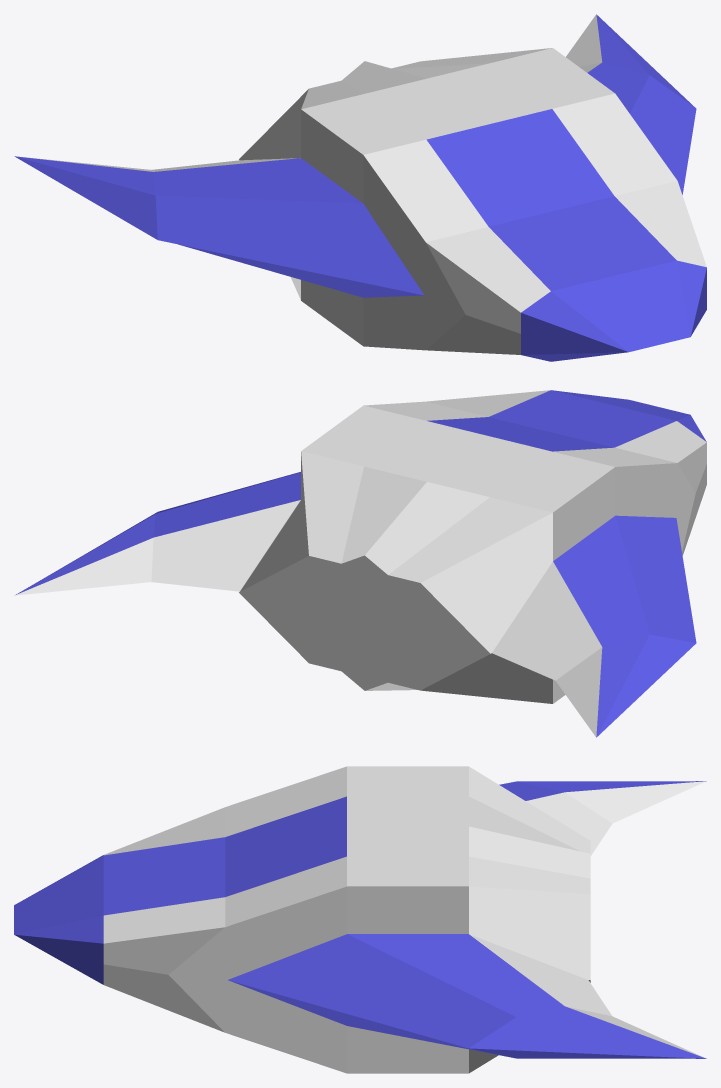
Rendered from Alien_autopilot.glb.
3 views of the same model, one above another, from view 1: azimuth 30°, elevation 25°; view 2: azimuth 150°, elevation 25°; view 3: azimuth 270°, elevation 25° (orthographic). The views are drawn at different scales.
Parts seen in each view (by area): view 1: Cube; view 2: Cube; view 3: Cube.
Part boxes in pixels (x1,y1,x2,y2): Cube: [14, 14, 706, 361]; Cube: [14, 390, 706, 737]; Cube: [14, 766, 706, 1073].
Size of the model in its own units: 0.5505 by 0.173 by 0.5806.
